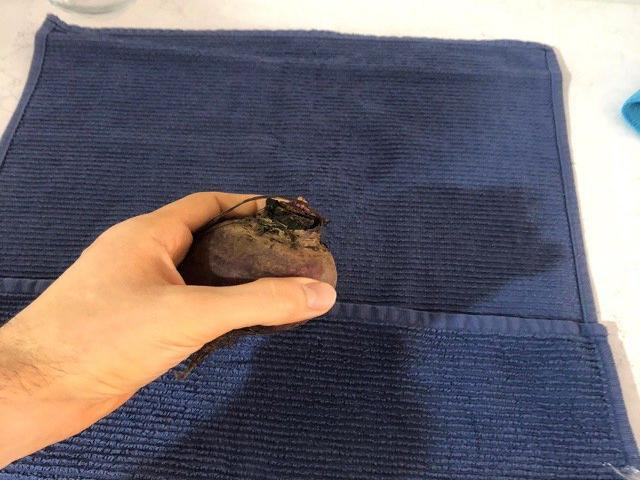beet: (182, 196, 338, 382)
